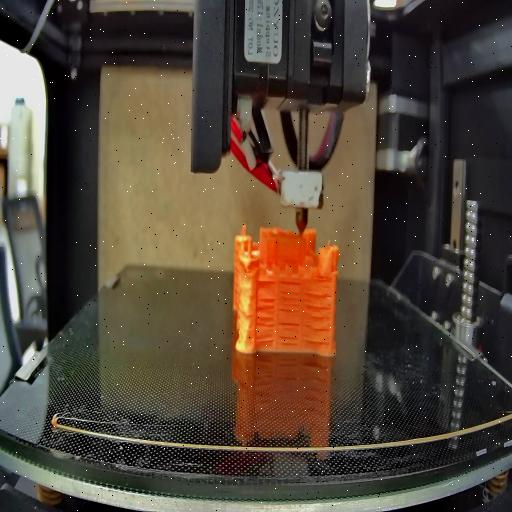cracks: (302, 290, 332, 345), (278, 281, 301, 347), (255, 295, 275, 345), (256, 278, 276, 290)
